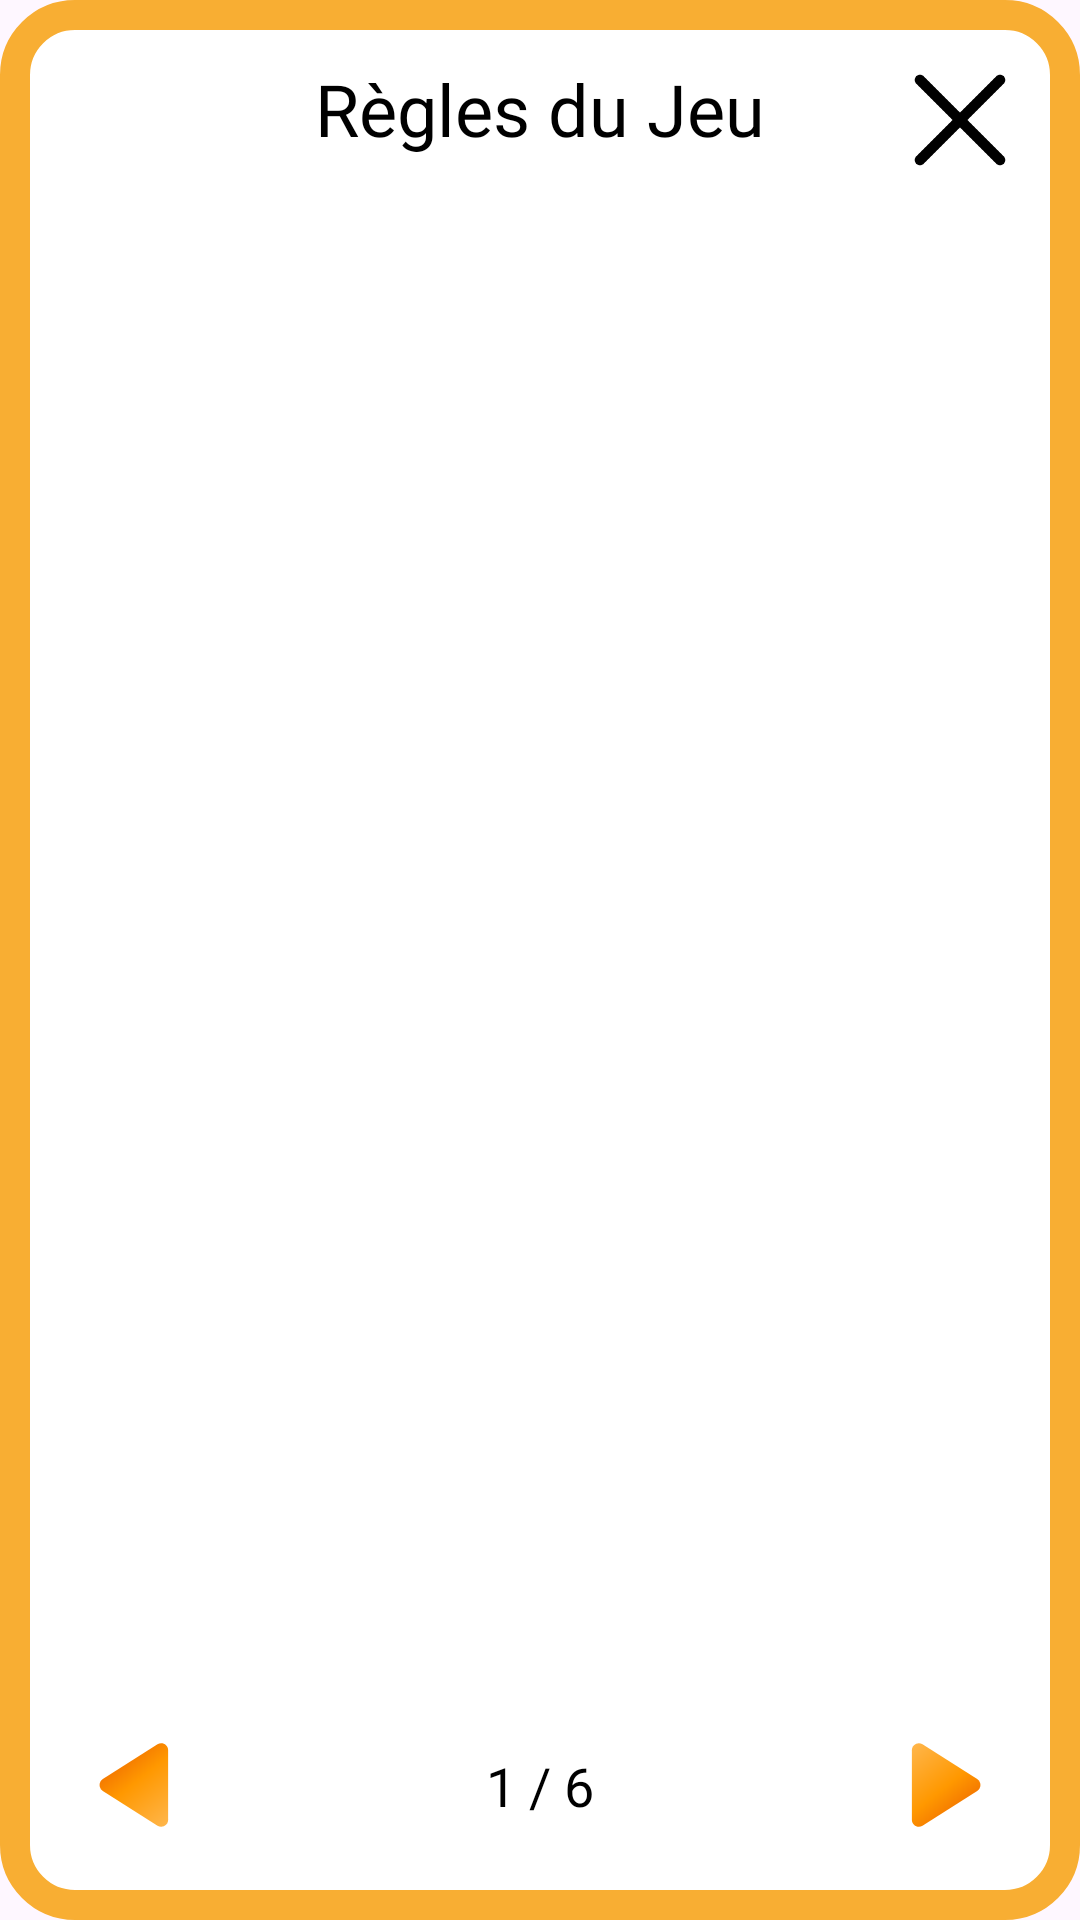

Icon bounding boxes for this 1080×1920 phone screenshot, format (x1, y1, x2, y2):
cross: (914, 74, 1006, 166)
